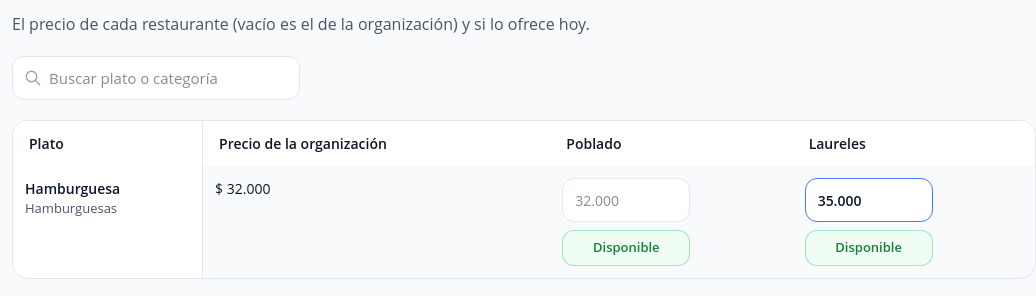
Test: cambia precio y disponibilidad de un plato en un solo restaurante
Expected: the field named "Precio de Hamburguesa en Laureles" holds "35.000", 805,178 -> 933,222
Type "33000" into the field named "Precio de Hamburguesa en Poblado" at (626,200), box 562,178 -> 690,222
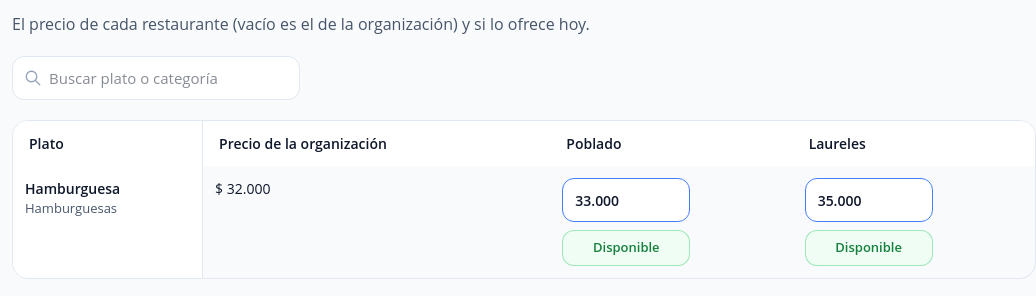
Clear the field named "Precio de Hamburguesa en Laureles" at (869,200), box 805,178 -> 933,222
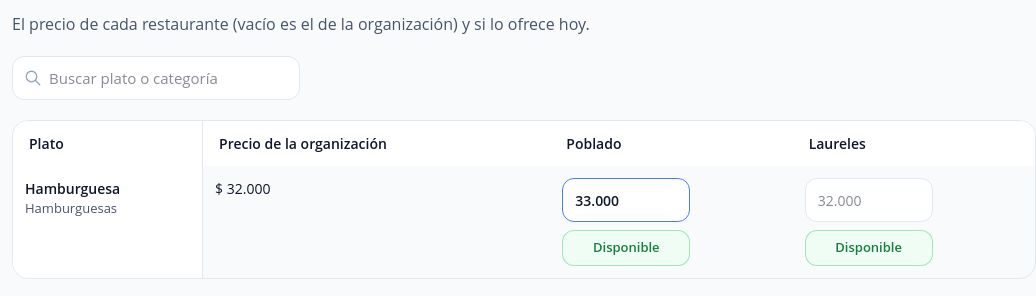
Click the switch named "Hamburguesa disponible en Laureles" at (869,248), box 805,230 -> 933,266
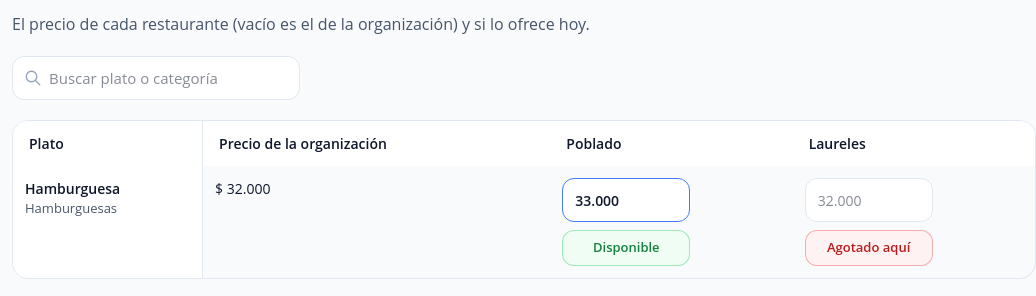
Expected: the switch named "Hamburguesa disponible en Poblado" reads "Disponible", 562,230 -> 690,266
Expected: the switch named "Hamburguesa disponible en Laureles" reads "Agotado aquí", 805,230 -> 933,266
